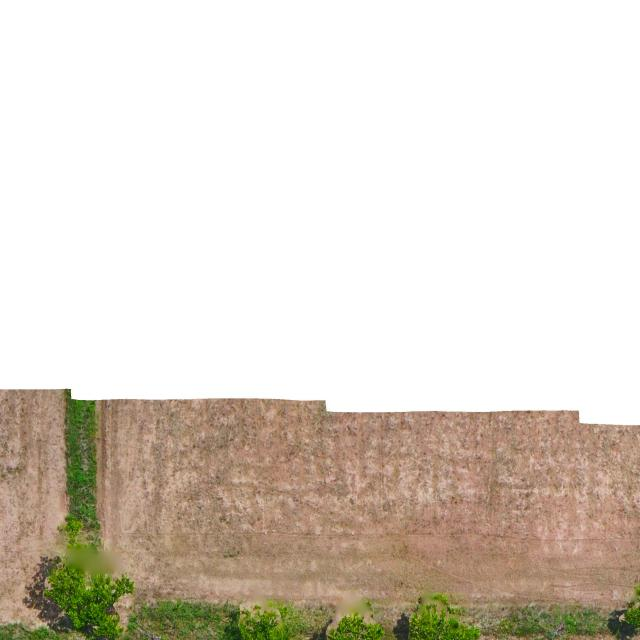Tree: (45, 561, 136, 640), (407, 590, 481, 640), (326, 600, 388, 640), (240, 599, 297, 640), (623, 580, 640, 629)
